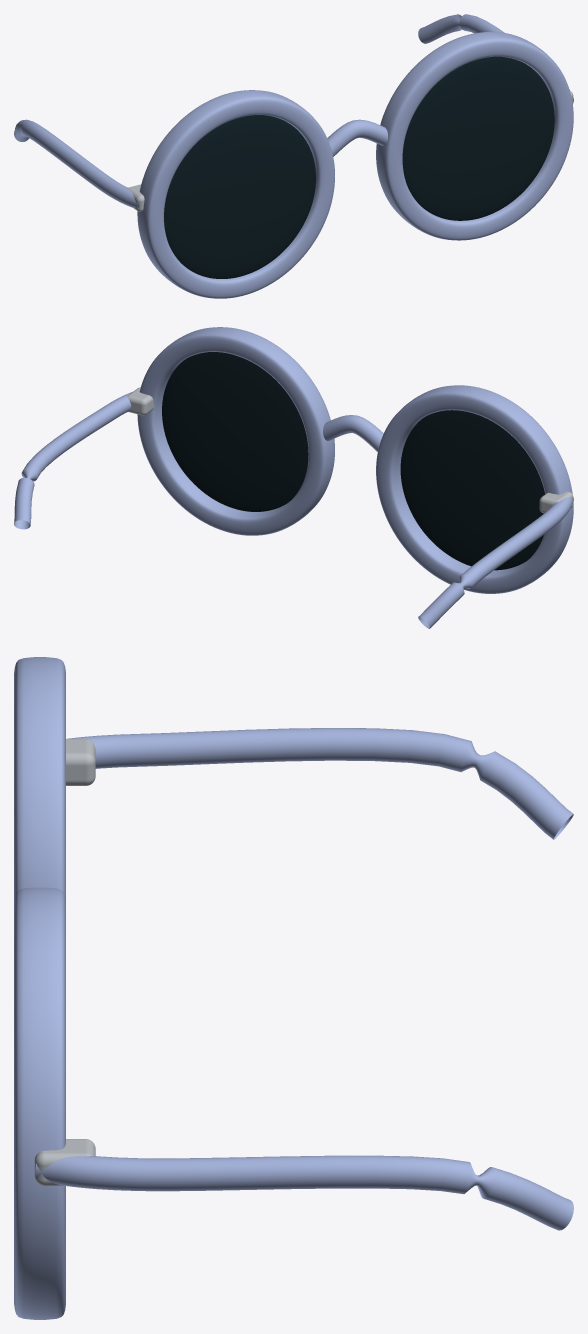
Rendered from folding-sunglasses.glb.
3 renders of one model, top to bottom at view 1: azimuth 30°, elevation 25°; view 2: azimuth 150°, elevation 25°; view 3: azimuth 270°, elevation 25°, orthographic. The views are drawn at different scales.
Visible parts, largest first — view 1: machined-annular-ring (×2), tinted-optical-lenses-005, tinted-optical-lenses-004, left-folding-temple-006, right-folding-temple-008, front-acetate-frame-003; view 2: machined-annular-ring (×2), tinted-optical-lenses-005, tinted-optical-lenses-004, left-folding-temple-006, right-folding-temple-008, front-acetate-frame-003, right-folding-temple-009, left-folding-temple-007; view 3: machined-annular-ring (×2), right-folding-temple-008, left-folding-temple-006, left-folding-temple-007, right-folding-temple-009.
Boxes of the visible parts, x1,y1,x2,y2 form: machined-annular-ring (×2): [137, 32, 573, 298]; tinted-optical-lenses-005: [402, 56, 554, 220]; tinted-optical-lenses-004: [164, 115, 315, 278]; left-folding-temple-006: [14, 119, 139, 208]; right-folding-temple-008: [418, 14, 573, 102]; front-acetate-frame-003: [327, 119, 387, 156]; machined-annular-ring (×2): [137, 327, 573, 593]; tinted-optical-lenses-005: [162, 352, 308, 511]; tinted-optical-lenses-004: [400, 410, 545, 570]; left-folding-temple-006: [418, 497, 573, 628]; right-folding-temple-008: [14, 392, 131, 529]; front-acetate-frame-003: [323, 415, 383, 451]; right-folding-temple-009: [127, 387, 154, 415]; left-folding-temple-007: [539, 491, 573, 513]; machined-annular-ring (×2): [14, 657, 65, 1319]; right-folding-temple-008: [35, 1155, 573, 1230]; left-folding-temple-006: [67, 728, 573, 839]; left-folding-temple-007: [66, 739, 95, 785]; right-folding-temple-009: [34, 1139, 95, 1185].
Size of the model in its own units: 2 by 0.8271 by 1.07.
